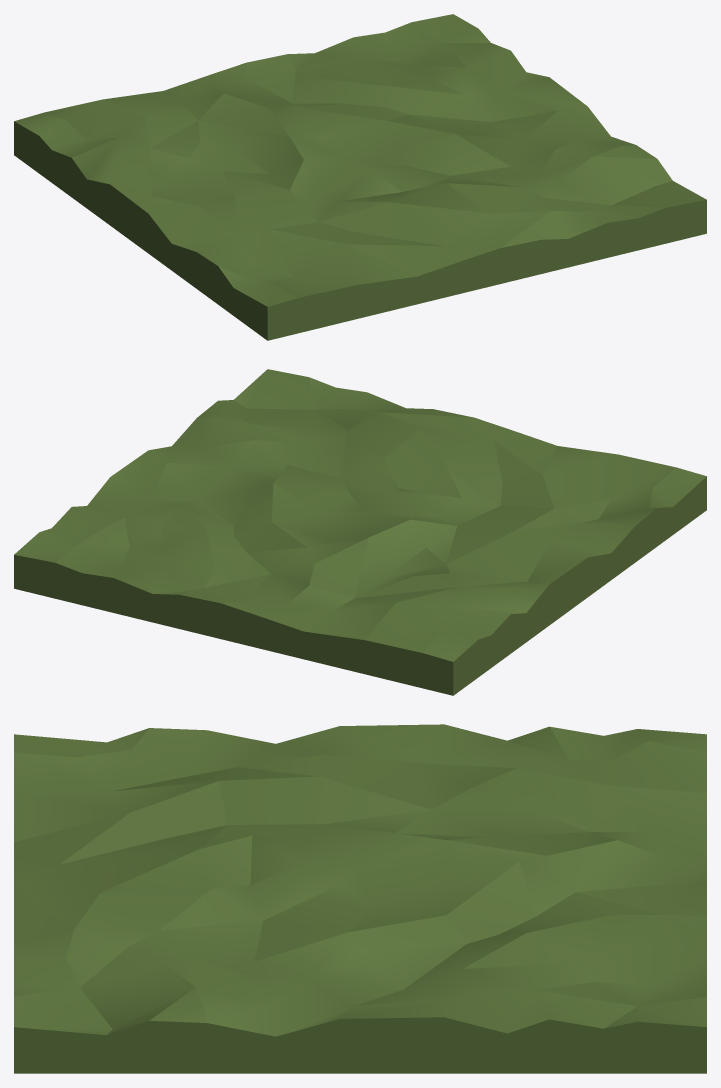
File: Grass_Base.glb
3 views of the same model, one above another, from view 1: azimuth 30°, elevation 25°; view 2: azimuth 150°, elevation 25°; view 3: azimuth 270°, elevation 25° (orthographic). The views are drawn at different scales.
Visible parts, largest first — view 1: Grass_Base; view 2: Grass_Base; view 3: Grass_Base.
Boxes of the visible parts, <box> form: Grass_Base: <box>14,14,706,340</box>; Grass_Base: <box>14,369,706,695</box>; Grass_Base: <box>14,724,706,1073</box>.
Size of the model in its own units: 1.47 by 0.1462 by 1.47.
